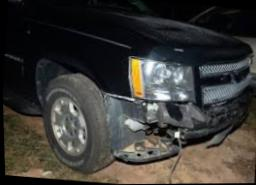Bumper: (102, 91, 250, 158)
